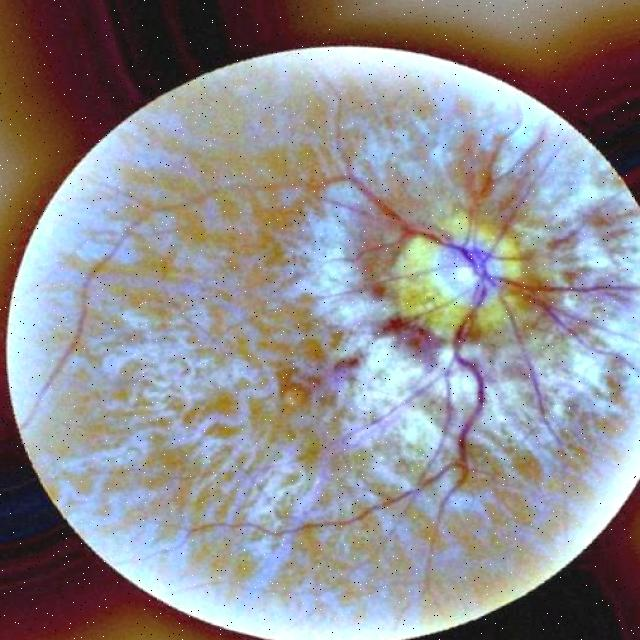Macula: (277, 381, 311, 409)
Nerves: (348, 160, 476, 272), (504, 280, 609, 344), (454, 286, 486, 463)
Optic Disk: (435, 240, 503, 305)
